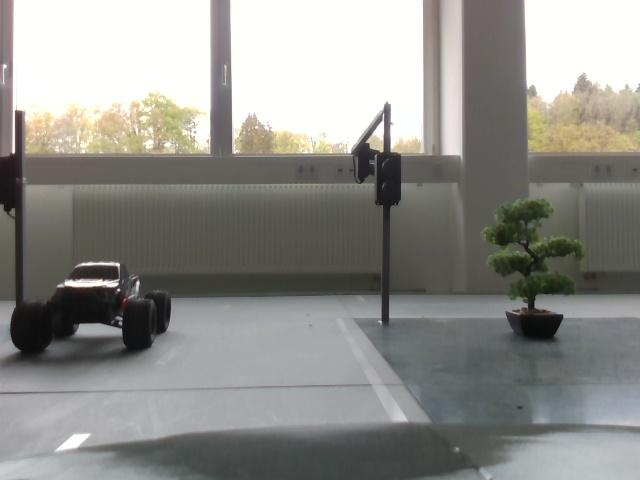car: (8, 260, 179, 354)
potted plant: (487, 194, 580, 347)
traffic light: (372, 154, 404, 210), (351, 147, 377, 180)
